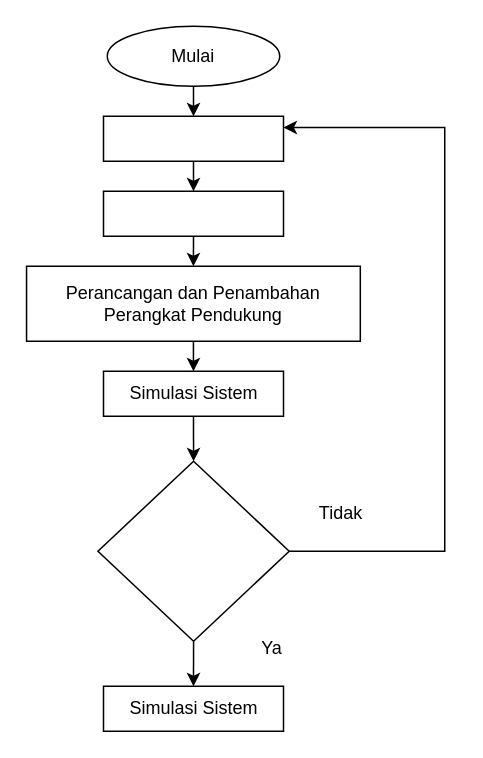
Image size: 483x758. Some labels were removed from this diagram. The box of each missing label's shape, as (x1, y1, x2, y2) in pixels:
Analisa Masalah: (102, 190, 284, 236)
Evaluasi: (96, 460, 289, 641)
Studi Literatur: (102, 115, 284, 161)
